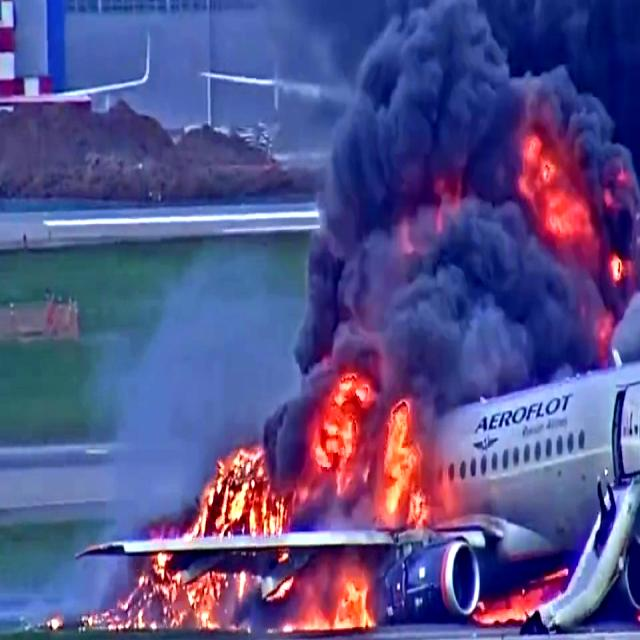fire: (119, 552, 356, 640), (321, 371, 432, 534), (198, 430, 284, 543)
smoke: (257, 0, 639, 489)
